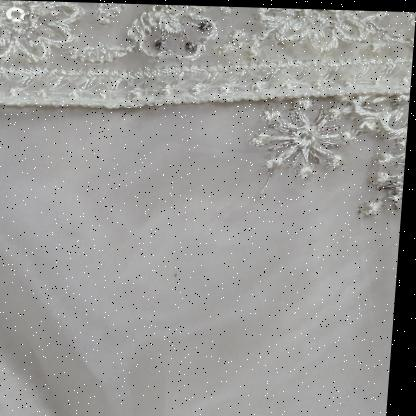spot: (177, 270, 186, 278)
